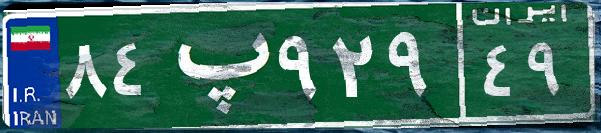2: (330, 28, 385, 110)
4: (475, 38, 525, 113), (110, 28, 158, 105)
8: (57, 26, 110, 107)
9: (385, 28, 445, 110), (273, 28, 330, 110), (525, 38, 570, 115)
پ: (158, 15, 273, 115)
